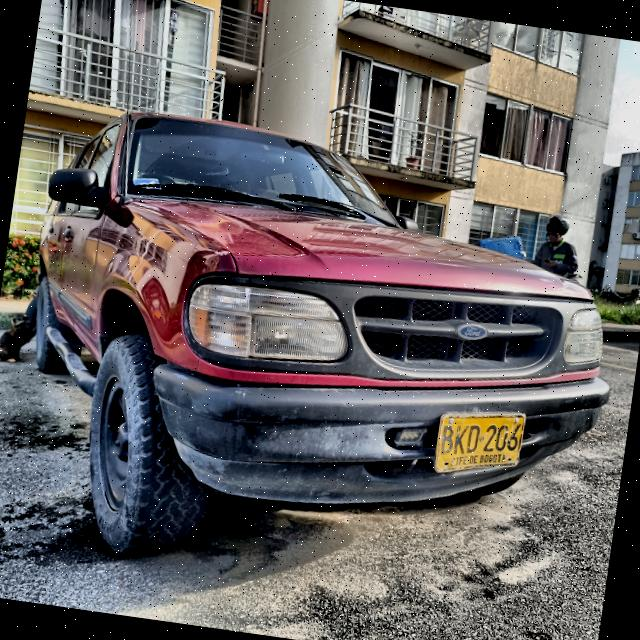0: (494, 423, 509, 453)
2: (482, 424, 498, 453)
6: (505, 423, 522, 452)
B: (440, 425, 457, 455)
D: (465, 425, 481, 454)
K: (453, 425, 470, 455)
